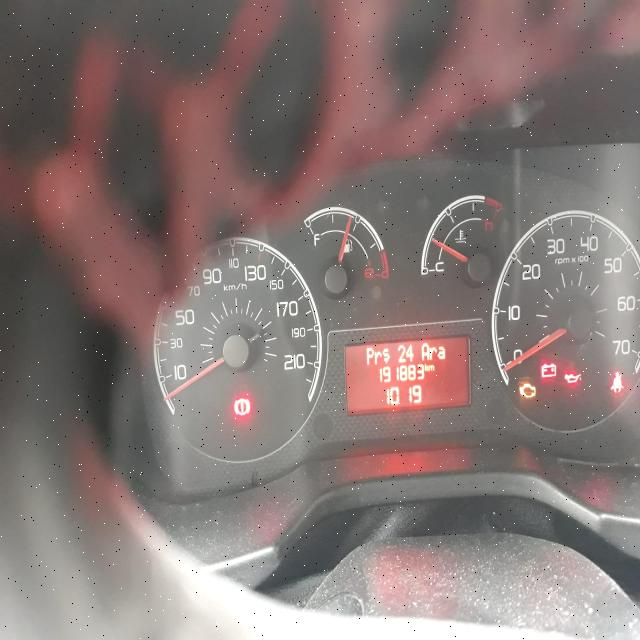odometer: (342, 332, 474, 418)
